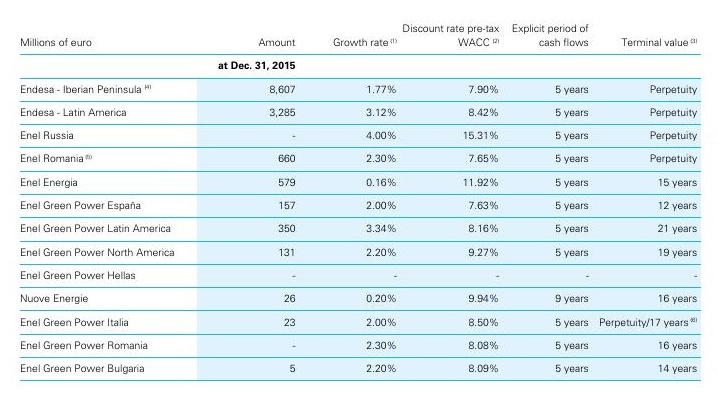table: (0, 0, 718, 395)
